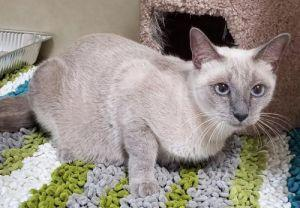siamese: (183, 19, 295, 141)
